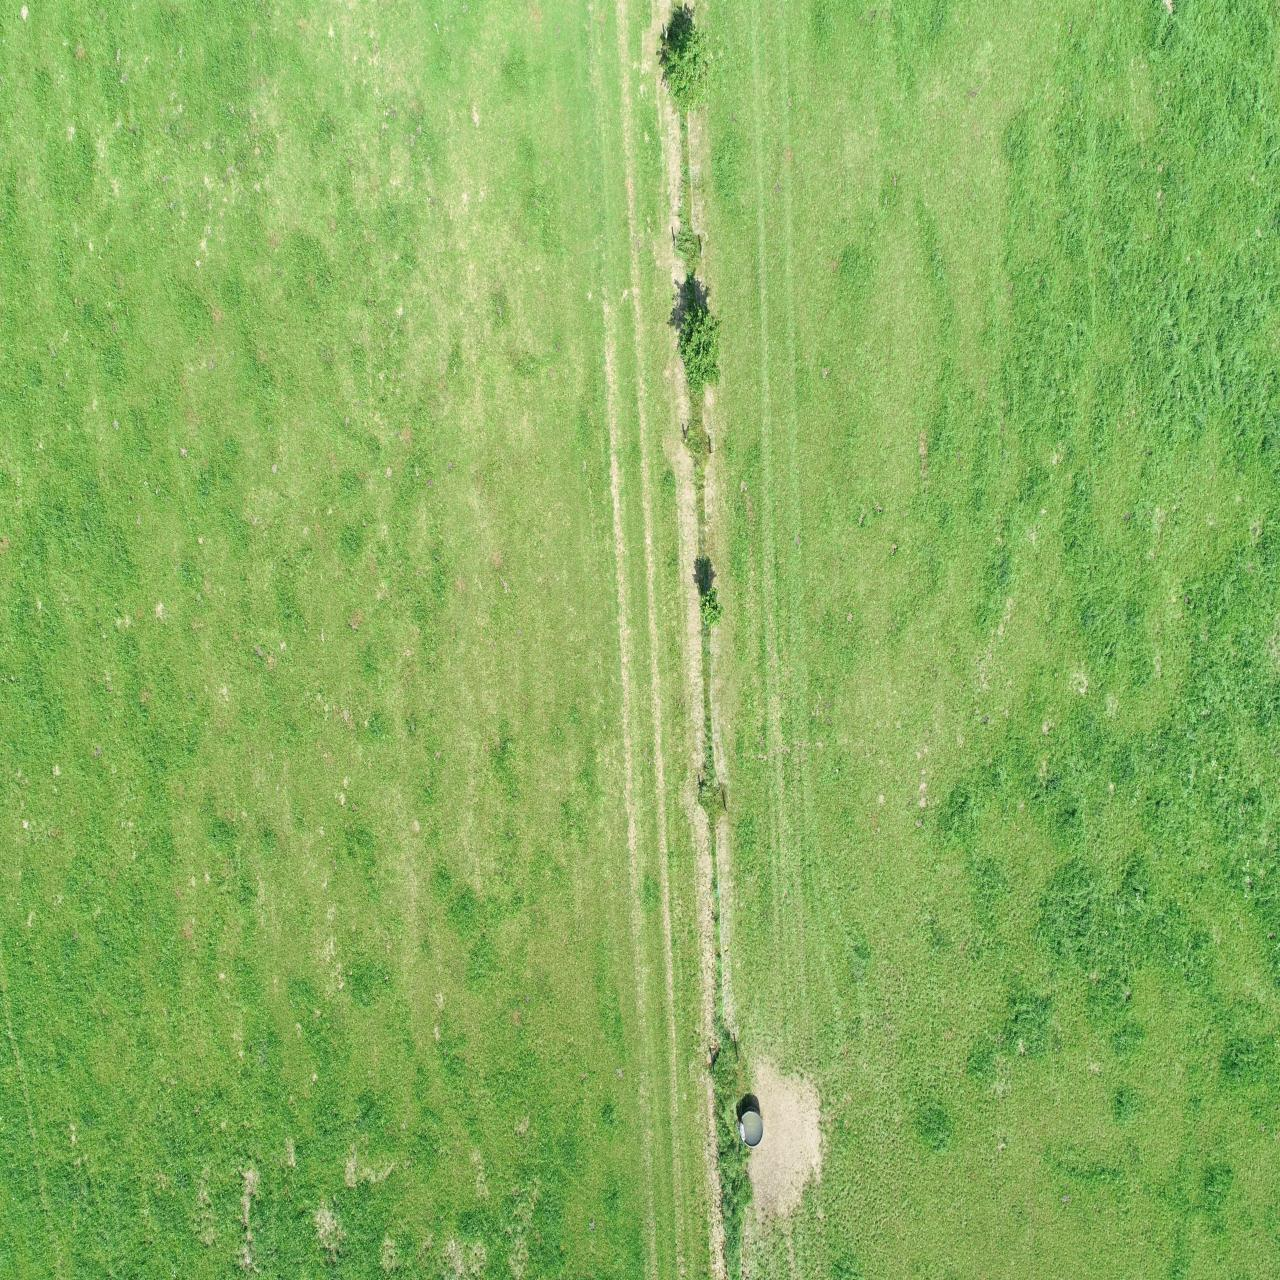cow: (893, 664, 921, 706), (984, 422, 1001, 484)
